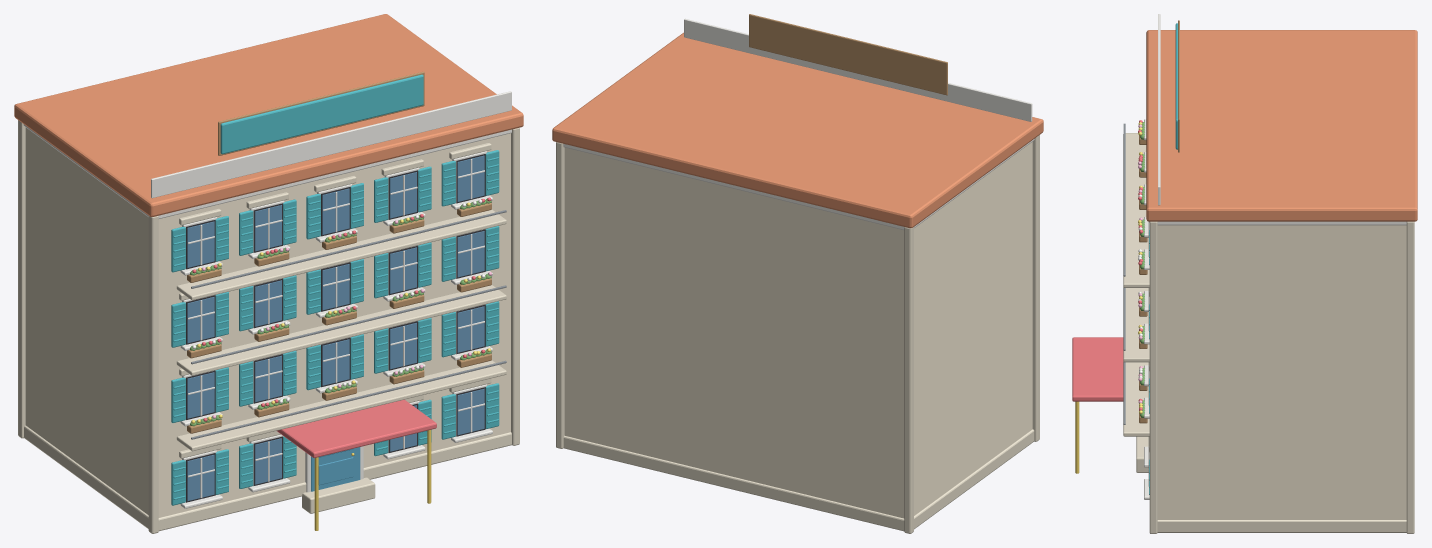
File: hotel.fbx
The picture shows the model from 3 angles, left to right: view 1: azimuth 30°, elevation 25°; view 2: azimuth 150°, elevation 25°; view 3: azimuth 270°, elevation 25°; orthographic projection. The views are drawn at different scales.
Visible parts, largest first — view 1: Visual; view 2: Visual; view 3: Visual.
Boxes of the visible parts, x1,y1,x2,y2 form: Visual: [14, 14, 523, 533]; Visual: [552, 14, 1043, 533]; Visual: [1072, 14, 1417, 533].
Size of what is drawn, in the model's own units: 1660 by 1673 by 1350.
